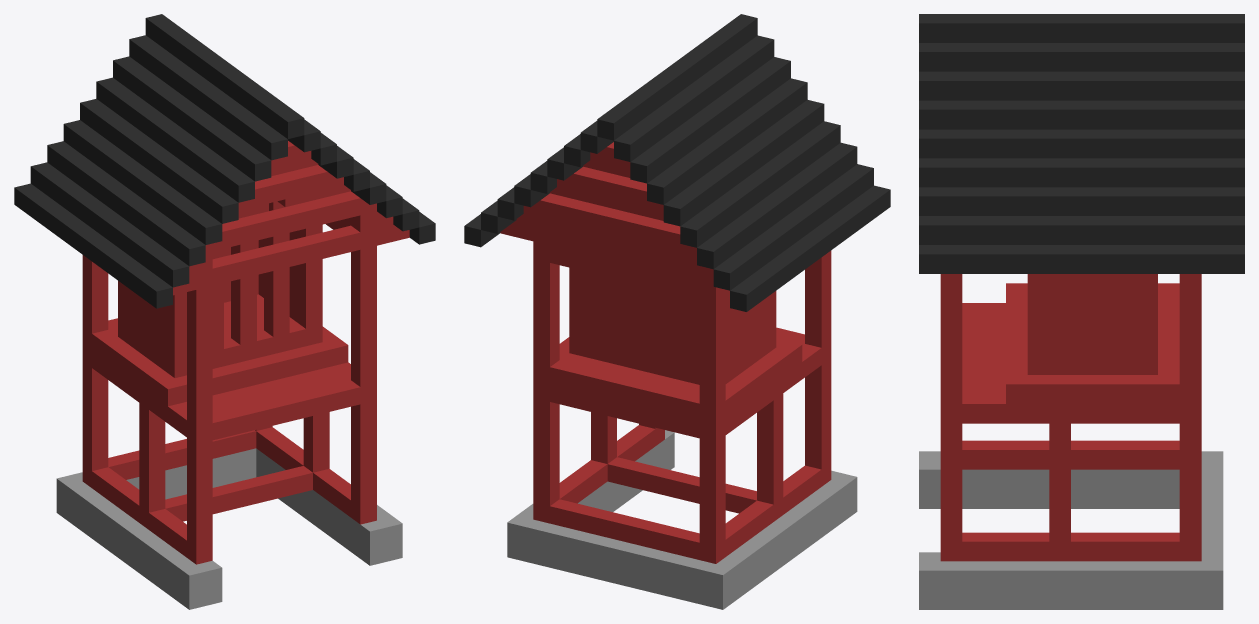
The model's file is mapkari-9.obj.
3 views of the same model, side by side, from view 1: azimuth 30°, elevation 25°; view 2: azimuth 150°, elevation 25°; view 3: azimuth 270°, elevation 25° (orthographic). The views are drawn at different scales.
Parts seen in each view (by area): view 1: mapkari-9; view 2: mapkari-9; view 3: mapkari-9.
Boxes of the visible parts, box(x1,y1,x2,y2) form: mapkari-9: box(14, 14, 435, 609); mapkari-9: box(464, 14, 890, 609); mapkari-9: box(919, 14, 1244, 609).
Bounding box in the file's own units: 17 × 27 × 15.
Materials: 1 (1 with a texture image).
